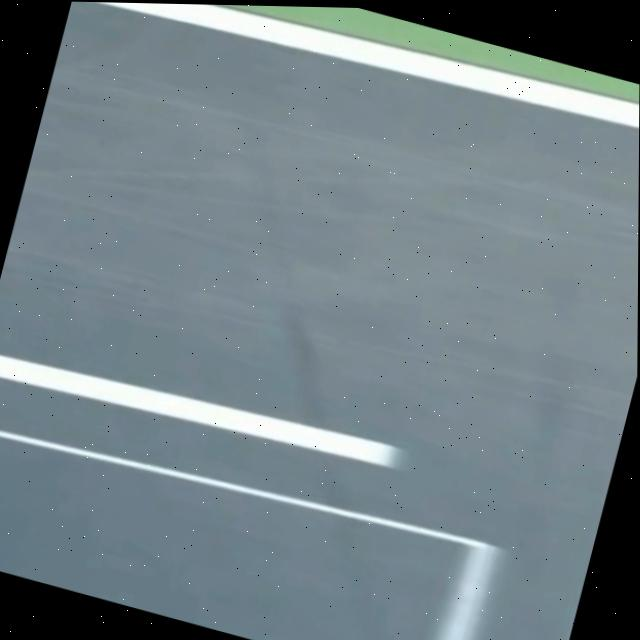center: (0, 355, 398, 467)
right: (96, 2, 639, 129)
